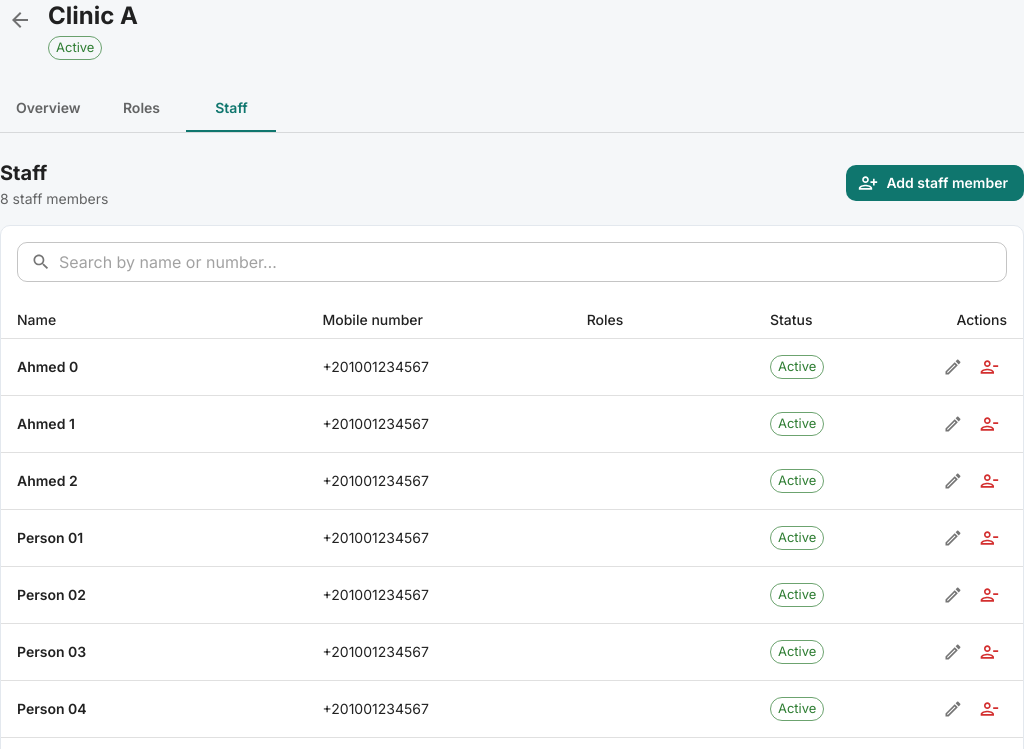
Test case: staff list @area:admin › a search with 3 matches (en): «3 results» instead of the staff count @ADM-238
The width and height of the screenshot is (1024, 749).
Clear the search field labelled "Search by name or number…" at (533, 262), box [59, 242, 1007, 282]
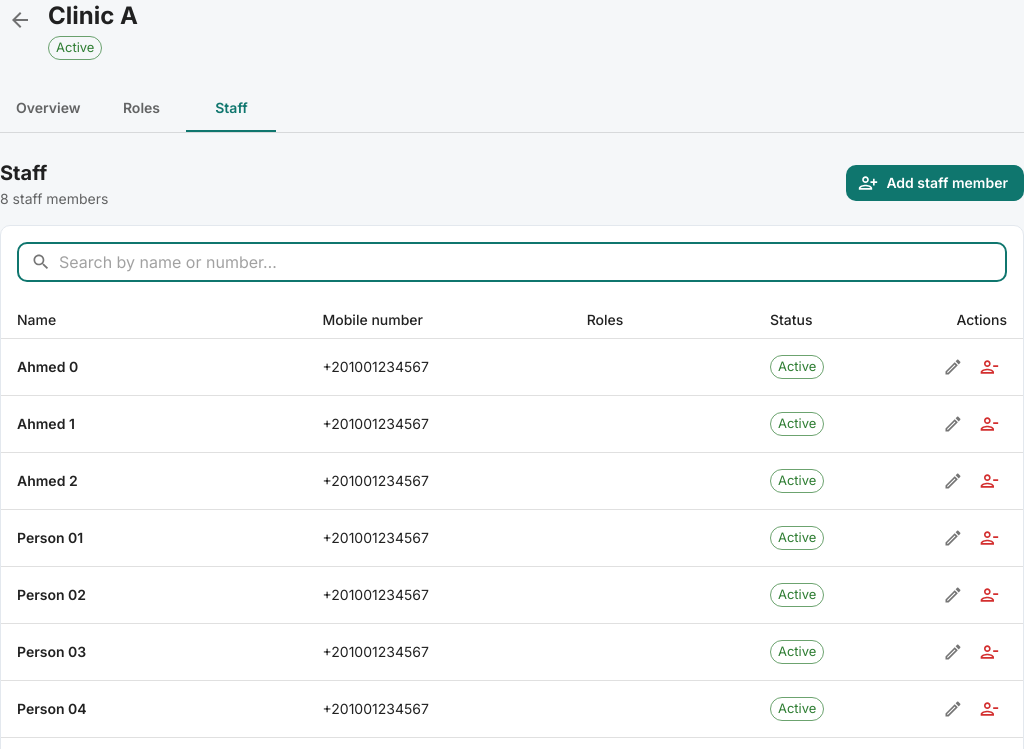
Type keys "ahmed"
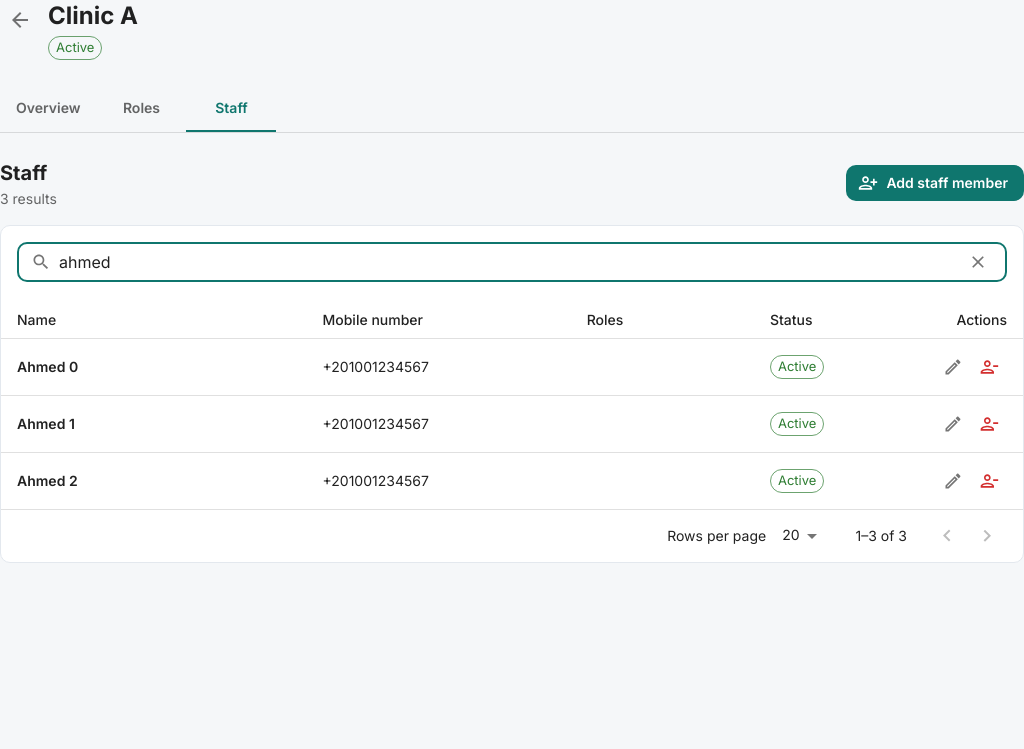
Expected: the text "3 results" is shown, [0, 189, 57, 209]
